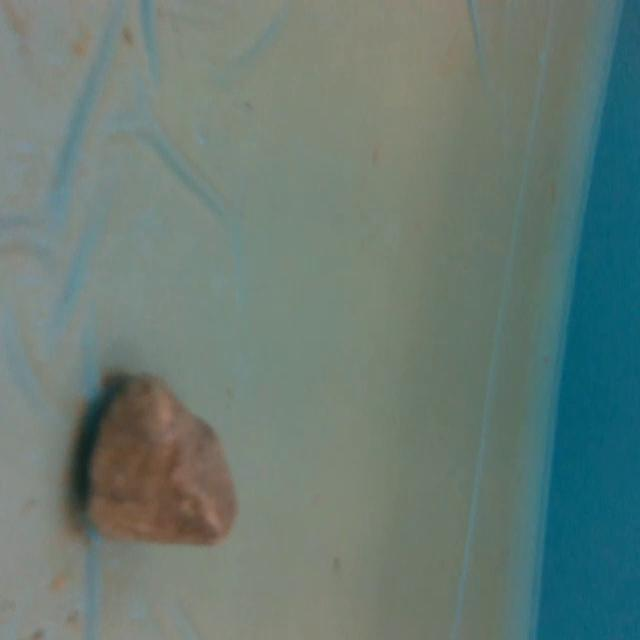rock: (68, 368, 245, 558)
